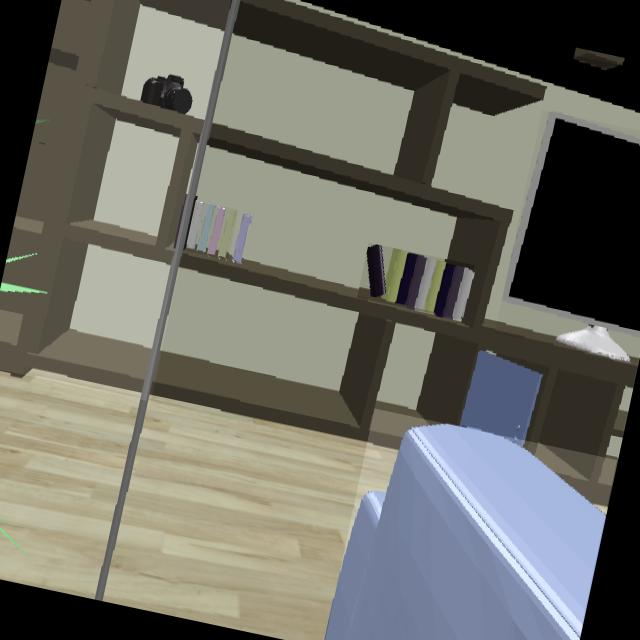book: (367, 246, 471, 318), (188, 203, 236, 258), (232, 214, 250, 262)
monitor: (503, 112, 640, 361)
shelf: (155, 0, 639, 504), (0, 0, 231, 388)
sofa: (326, 424, 605, 640)
